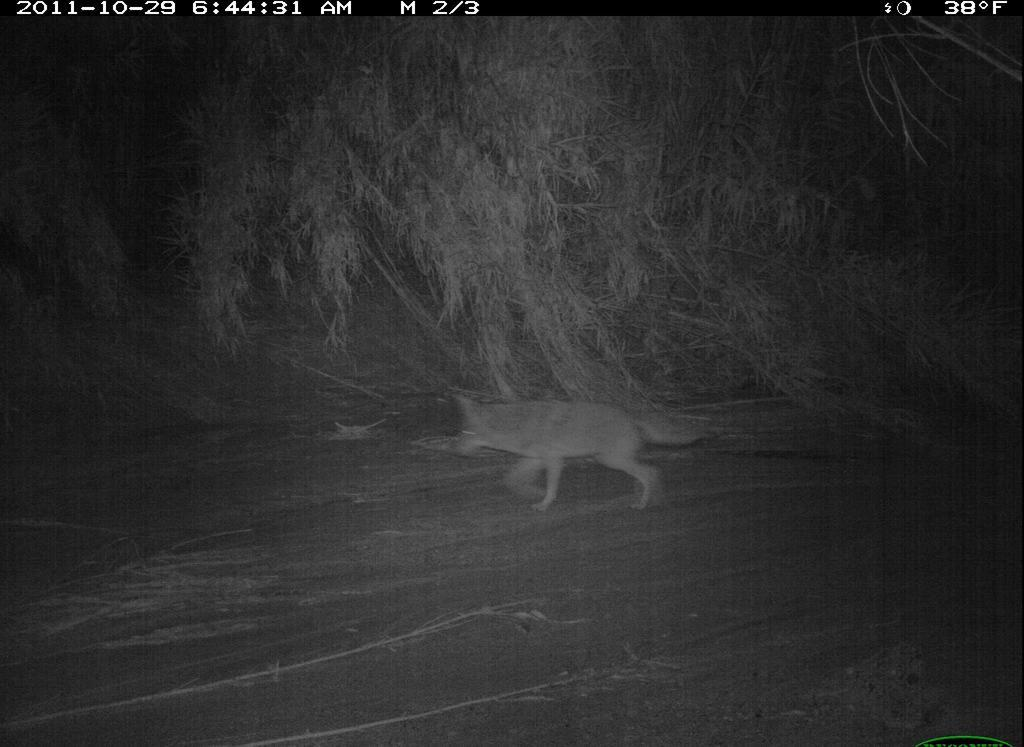coyote: (449, 385, 716, 527)
